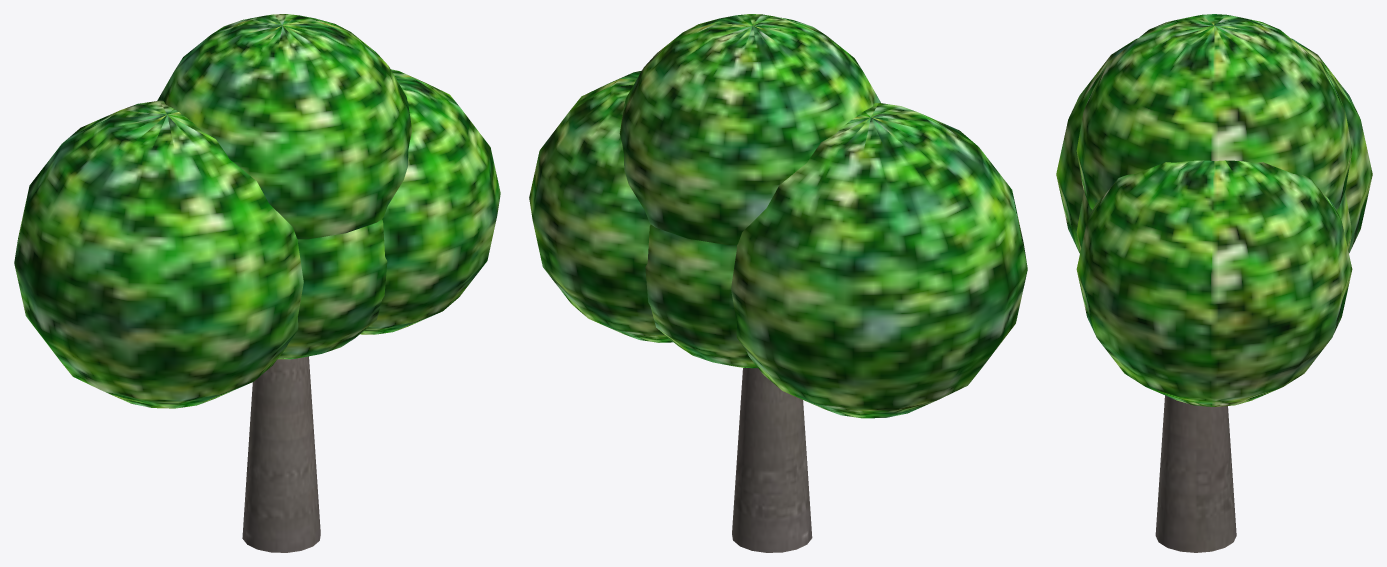
File: tree3.obj
3 renders of one model, left to right at view 1: azimuth 30°, elevation 25°; view 2: azimuth 150°, elevation 25°; view 3: azimuth 270°, elevation 25°, orthographic. The views are drawn at different scales.
Visible parts, largest first — view 1: ??, ??.2, ??.1, ???.2, ??.3; view 2: ??, ??.2, ??.1, ???.2, ??.3; view 3: ??.1, ??.2, ???.2, ??, ??.3.
Part boxes in pixels (x1=…): ??: x1=14, y1=100, x2=303, y2=408; ??.2: x1=157, y1=14, x2=412, y2=239; ??.1: x1=360, y1=69, x2=500, y2=334; ???.2: x1=242, y1=356, x2=320, y2=552; ??.3: x1=278, y1=219, x2=387, y2=359; ??: x1=731, y1=103, x2=1027, y2=418; ??.2: x1=619, y1=14, x2=880, y2=244; ??.1: x1=529, y1=70, x2=672, y2=342; ???.2: x1=732, y1=368, x2=812, y2=552; ??.3: x1=645, y1=224, x2=757, y2=368; ??.1: x1=1076, y1=160, x2=1352, y2=406; ??.2: x1=1076, y1=14, x2=1352, y2=209; ???.2: x1=1155, y1=395, x2=1236, y2=552; ??: x1=1056, y1=38, x2=1372, y2=253; ??.3: x1=1076, y1=192, x2=1352, y2=251.
Size of the model in its own units: 143 by 152 by 84.6.
